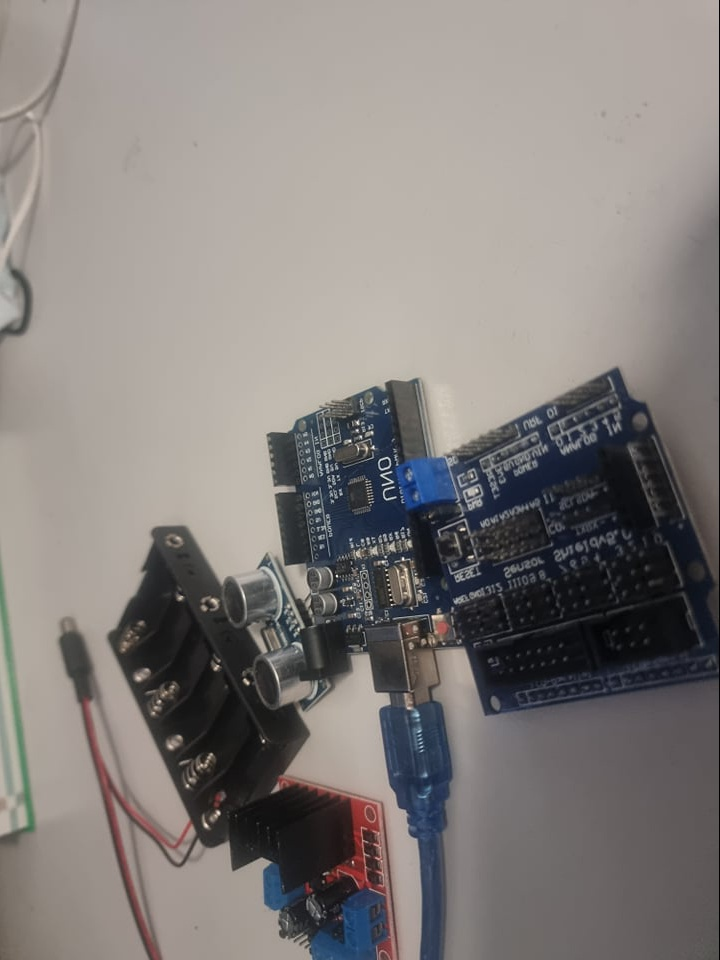5V EXPANSION: (400, 370, 720, 718)
BATTERY BOX: (100, 525, 310, 828)
MOTOR: (224, 785, 409, 960)
SENSOR: (219, 567, 338, 713)
UNO R3: (276, 386, 458, 682)
